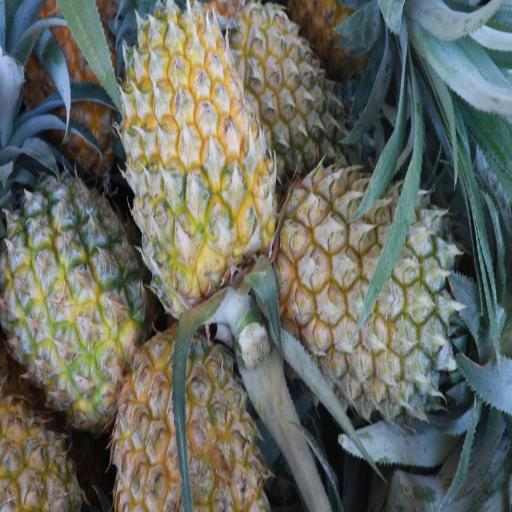------------------------------: (113, 333, 254, 512)
Pineapple - v8 v1: (119, 5, 268, 302), (2, 175, 140, 419)
